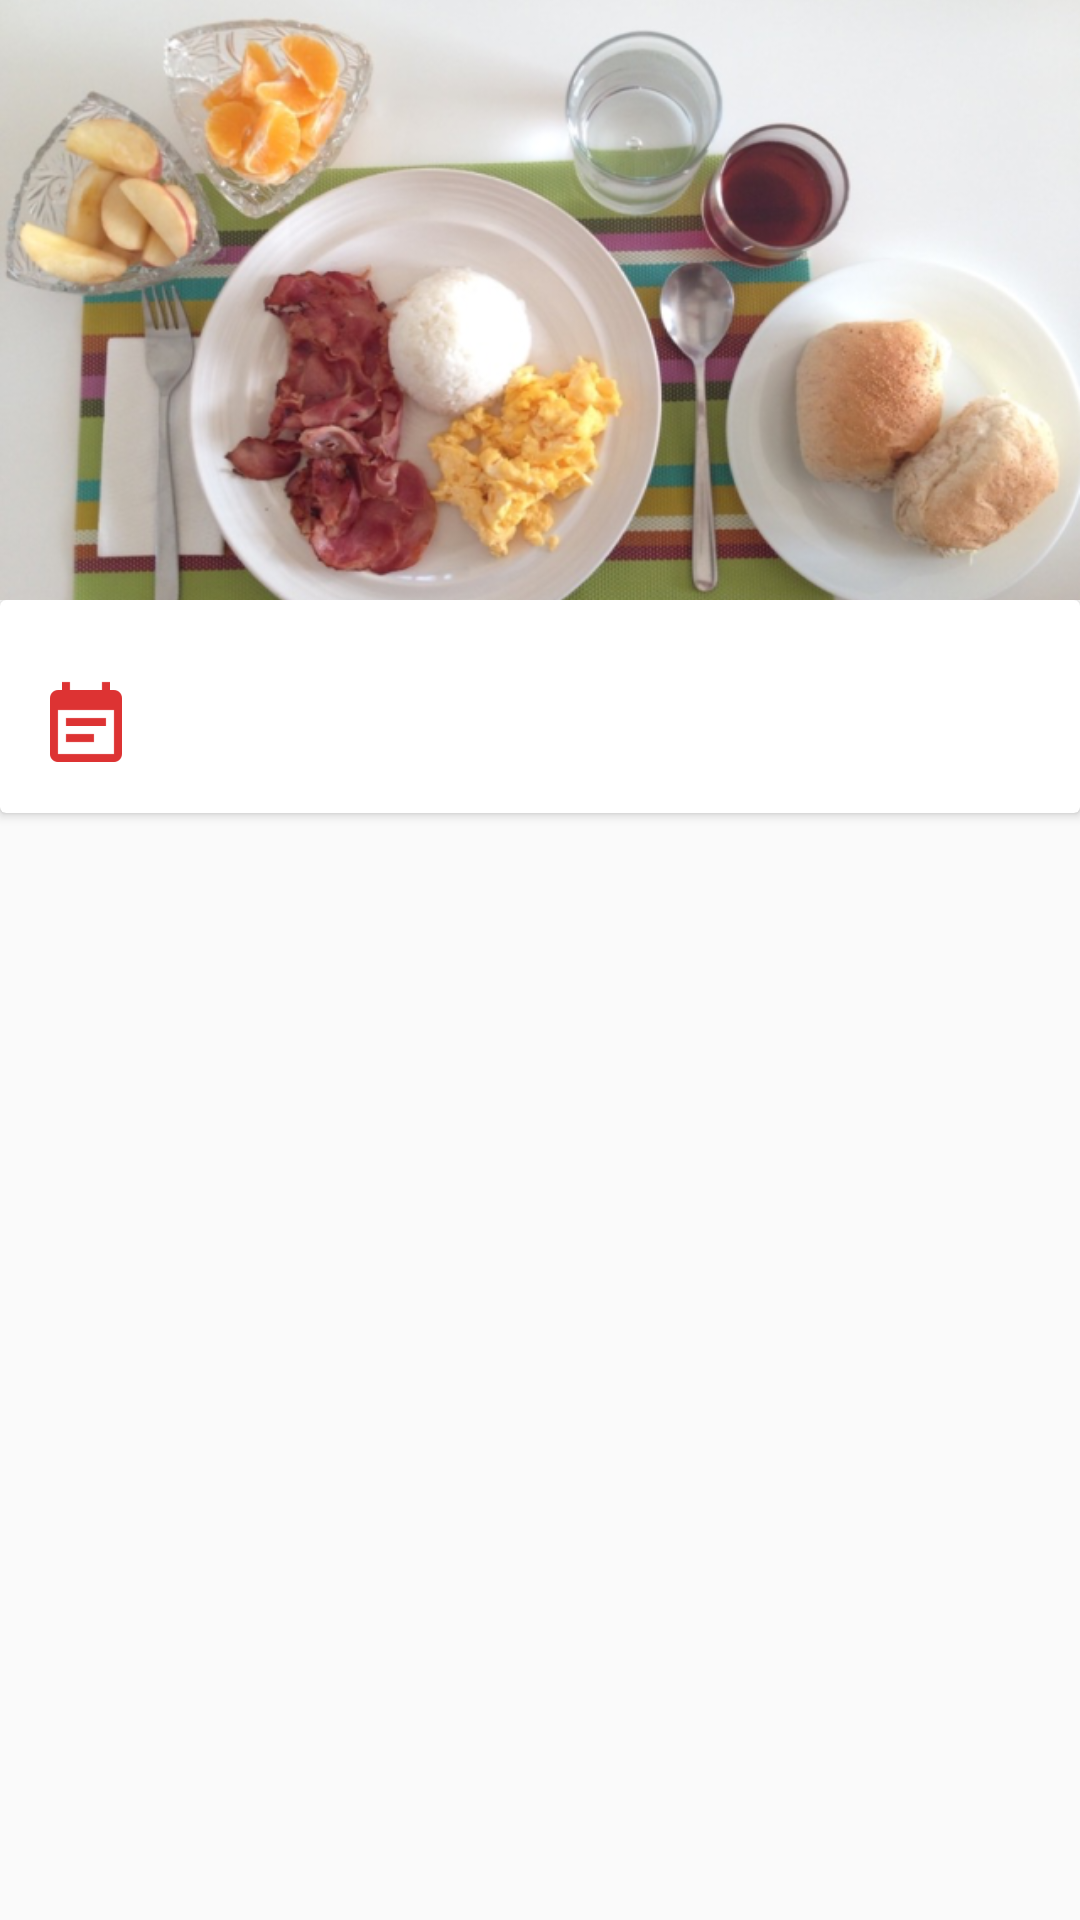

Point at icon controls on the screen. Image size 1080 x 1920, points as [x,y].
note: [86,722]
